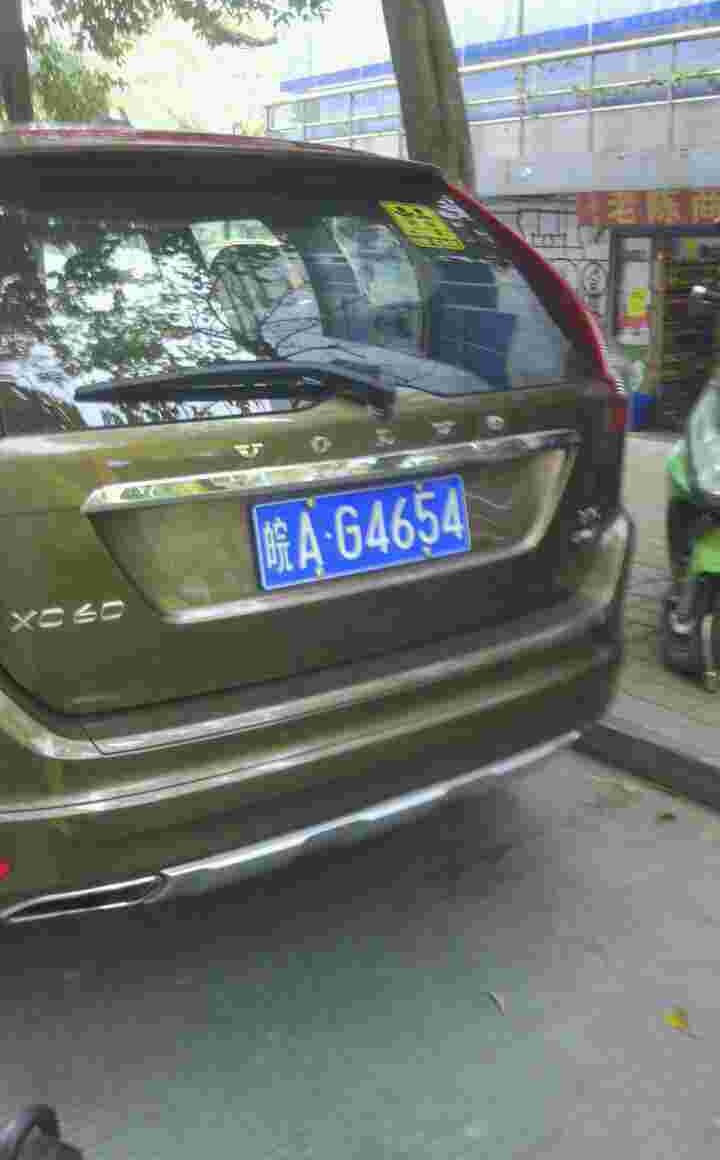license_plate: (258, 476, 476, 599)
